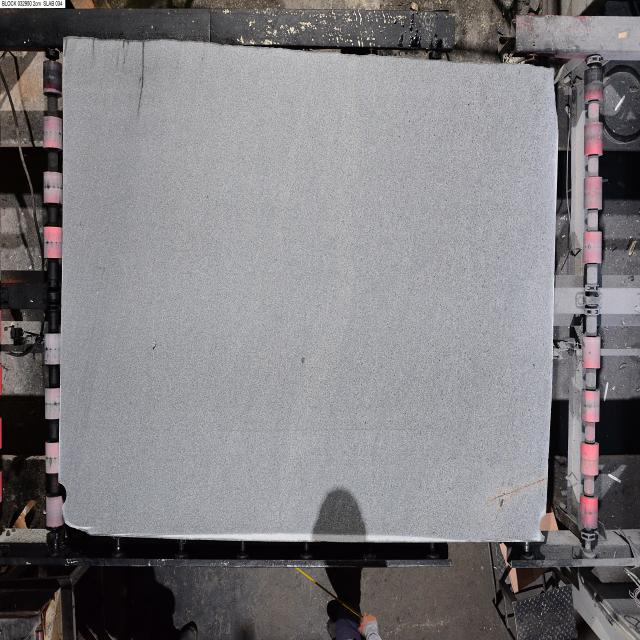chapa: (60, 38, 556, 542)
veio: (54, 478, 72, 510), (536, 512, 555, 542)
